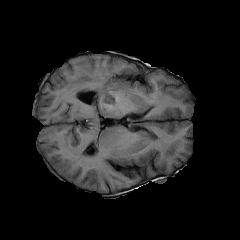glioma: (66, 70, 115, 104)
